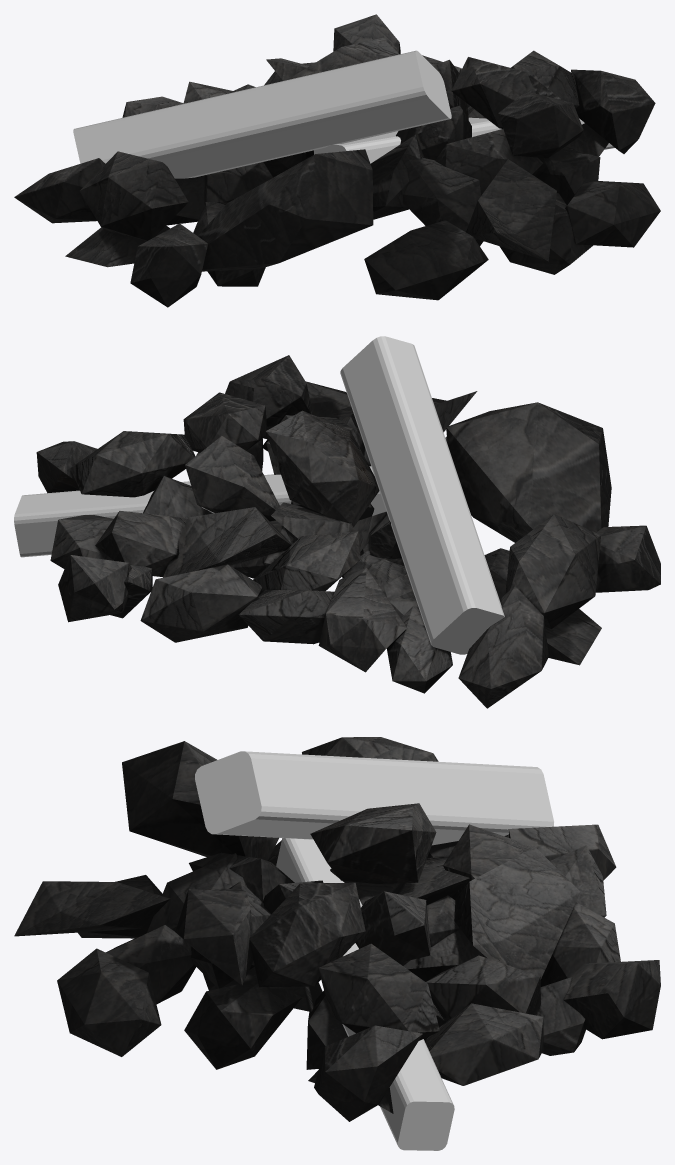
Rendered from obstacle_bottom.dae.
The picture shows the model from 3 angles, top to bottom: view 1: azimuth 30°, elevation 25°; view 2: azimuth 150°, elevation 25°; view 3: azimuth 270°, elevation 25°; orthographic projection. The views are drawn at different scales.
Parts seen in each view (by area): view 1: Debris, WoodSegment1, WoodSegment2; view 2: Debris, WoodSegment1, WoodSegment2; view 3: Debris, WoodSegment1, WoodSegment2.
Boxes of the visible parts, x1=… form: Debris: x1=14, y1=14, x2=660, y2=307; WoodSegment1: x1=73, y1=50, x2=451, y2=178; WoodSegment2: x1=314, y1=117, x2=614, y2=163; Debris: x1=36, y1=355, x2=660, y2=708; WoodSegment1: x1=340, y1=336, x2=504, y2=654; WoodSegment2: x1=14, y1=466, x2=386, y2=557; Debris: x1=14, y1=737, x2=660, y2=1121; WoodSegment1: x1=195, y1=751, x2=553, y2=845; WoodSegment2: x1=276, y1=838, x2=454, y2=1150.
Bounding box in the file's own units: 4.71 × 4.09 × 1.75.
